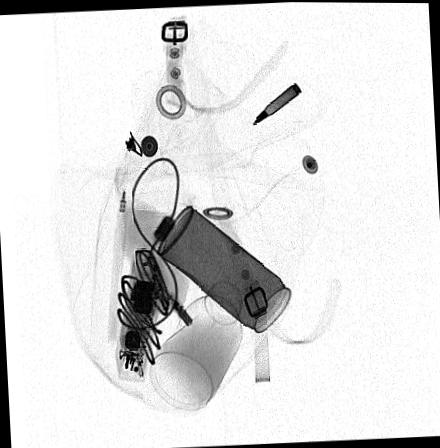Bullet: (250, 82, 301, 125)
